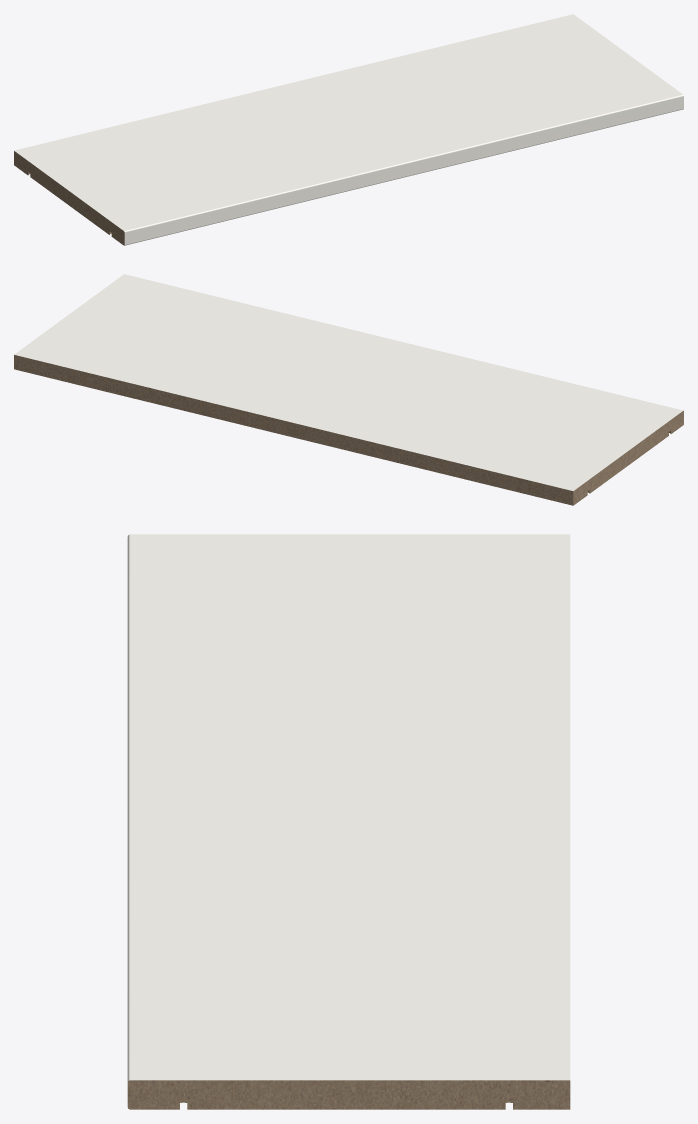
Rendered from 20 - BILLY Extra shelf - white 76x26 cm.glb.
3 views of the same model, one above another, from view 1: azimuth 30°, elevation 25°; view 2: azimuth 150°, elevation 25°; view 3: azimuth 270°, elevation 25° (orthographic). The views are drawn at different scales.
Size of the model in its own units: 0.762 by 0.019 by 0.261.
1 material, 1 textured.
